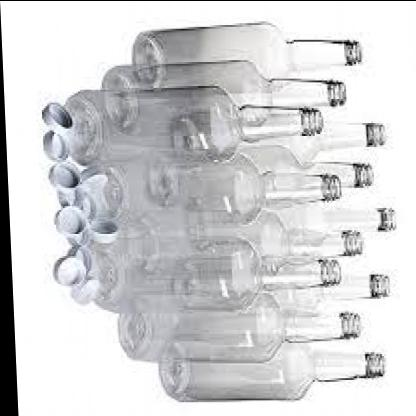Plastic: (75, 3, 398, 402)
